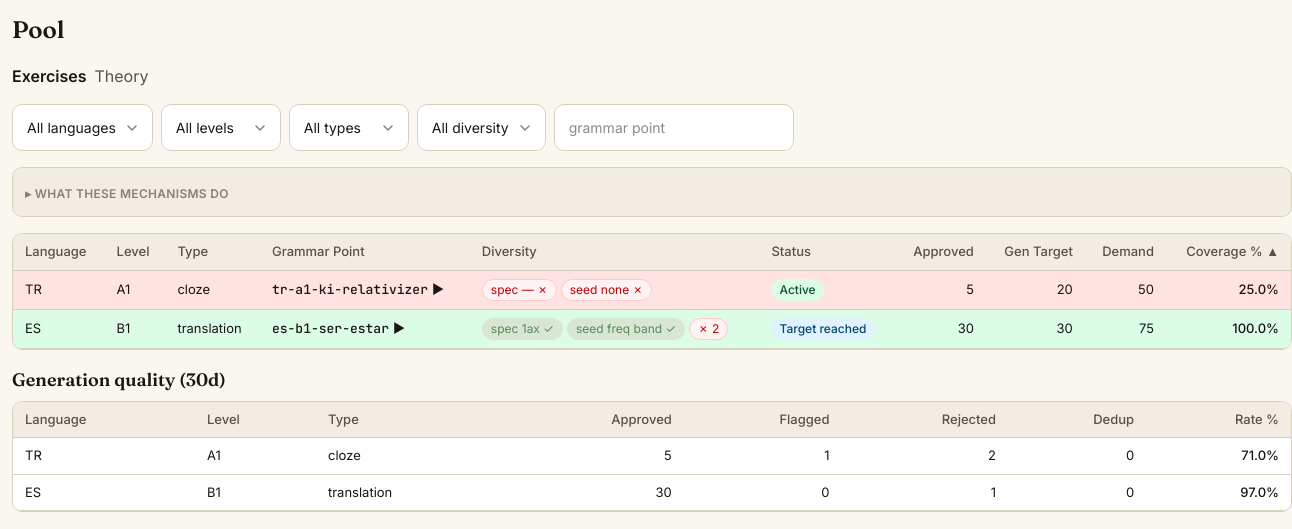
it: PoolPage › filters coverage rows by type client-side
The width and height of the screenshot is (1292, 529).
Select "cloze" in the dropdown named "type" at [349, 128], box 289,104 -> 409,151
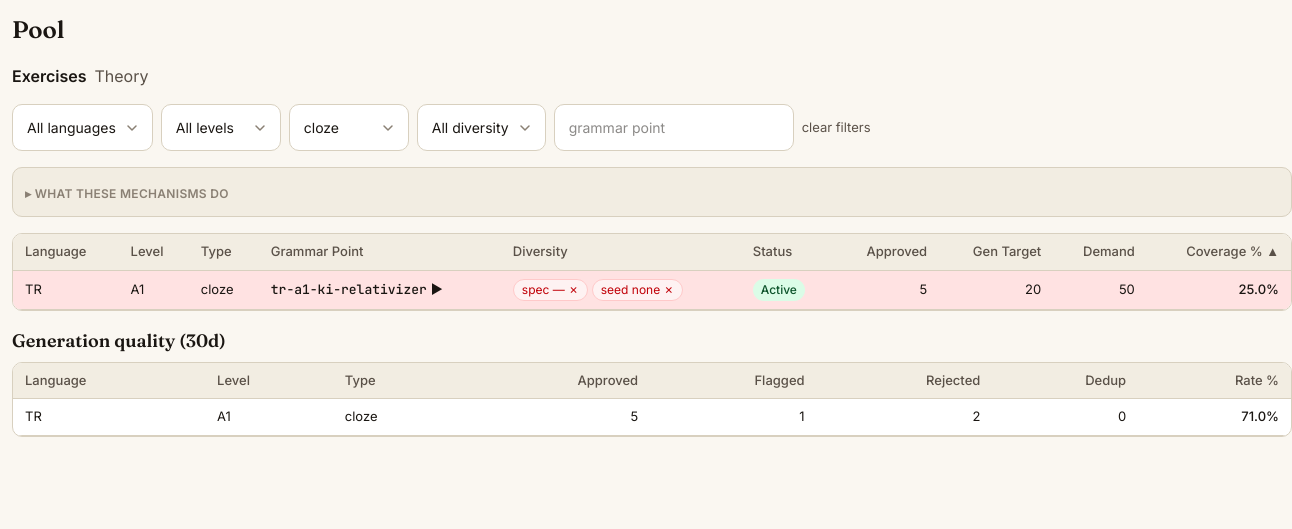
Expected: the button "tr-a1-ki-relativizer ▶" is shown, 271,280 -> 443,299
Result: the button "es-b1-ser-estar" is gone
